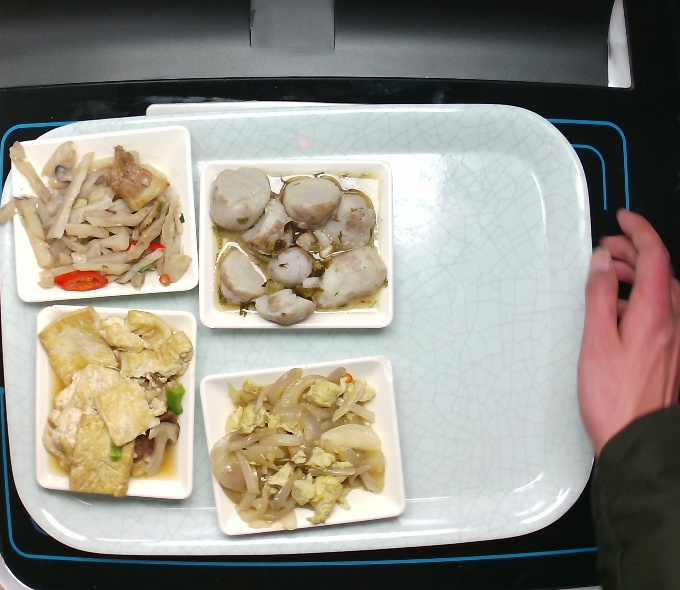wcq-JiaChangDouFu: (24, 299, 191, 505)
wcq-QingChaoOuPian: (3, 135, 194, 295)
wcq-YangCongChaoDan: (207, 368, 394, 531)
wcq-YangYu: (203, 163, 387, 331)
